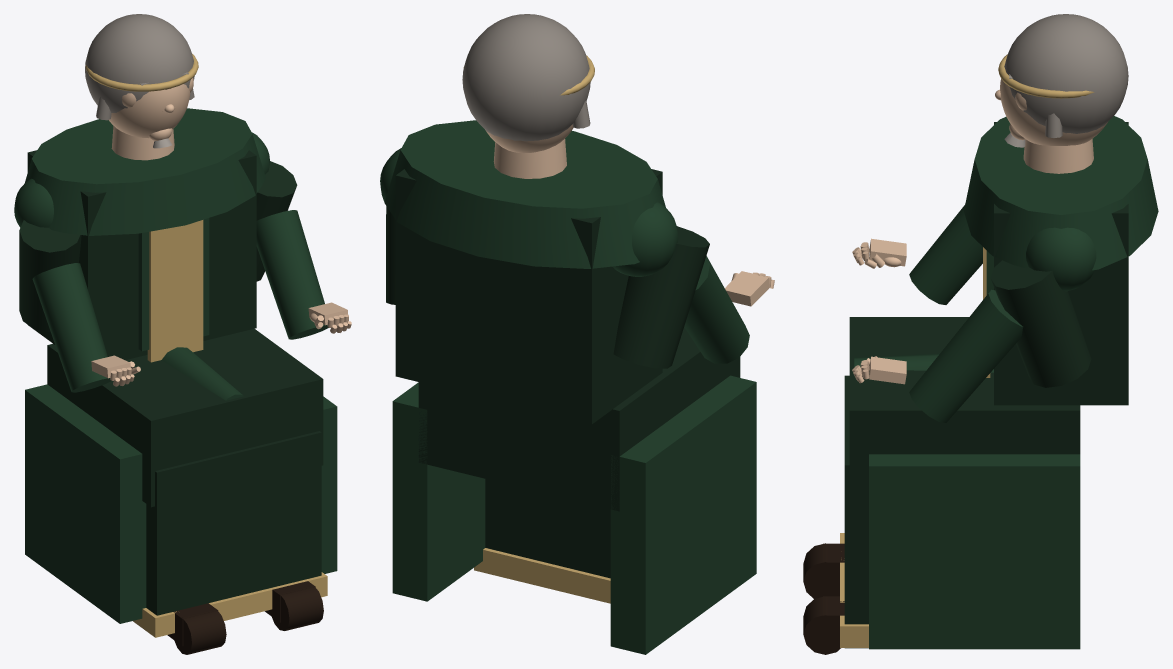
Rendered from adv_chancellor.glb.
3 views of the same model, side by side, from view 1: azimuth 30°, elevation 25°; view 2: azimuth 150°, elevation 25°; view 3: azimuth 270°, elevation 25° (orthographic). The views are drawn at different scales.
Parts seen in each view (by area): view 1: LowerBodyRobes, TorsoAssembly, HeadAssembly, RightArmAssembly, Cranium, LeftHand, RightHand; view 2: TorsoAssembly, LowerBodyRobes, HeadAssembly, RightArmAssembly, LeftHand, Cranium; view 3: LowerBodyRobes, TorsoAssembly, RightArmAssembly, HeadAssembly, Cranium, LeftHand, RightHand.
Part boxes in pixels (x1,y1,x2,y2): LowerBodyRobes: (25,328,337,654); TorsoAssembly: (14,108,265,392); HeadAssembly: (85,14,198,148); RightArmAssembly: (252,132,328,339); Cranium: (109,84,190,138); LeftHand: (91,355,140,386); RightHand: (308,302,351,333); TorsoAssembly: (384,120,749,424); LowerBodyRobes: (392,327,756,654); HeadAssembly: (462,14,594,141); RightArmAssembly: (380,148,401,304); LeftHand: (725,271,774,306); Cranium: (485,124,573,153); LowerBodyRobes: (803,317,1080,654); TorsoAssembly: (909,116,1158,405); RightArmAssembly: (909,227,1096,422); HeadAssembly: (995,14,1128,147); Cranium: (1000,78,1107,145); LeftHand: (852,238,906,268); RightHand: (852,356,906,384).
Bounding box in the file's own units: 0.7212 × 1.38 × 0.7385.
